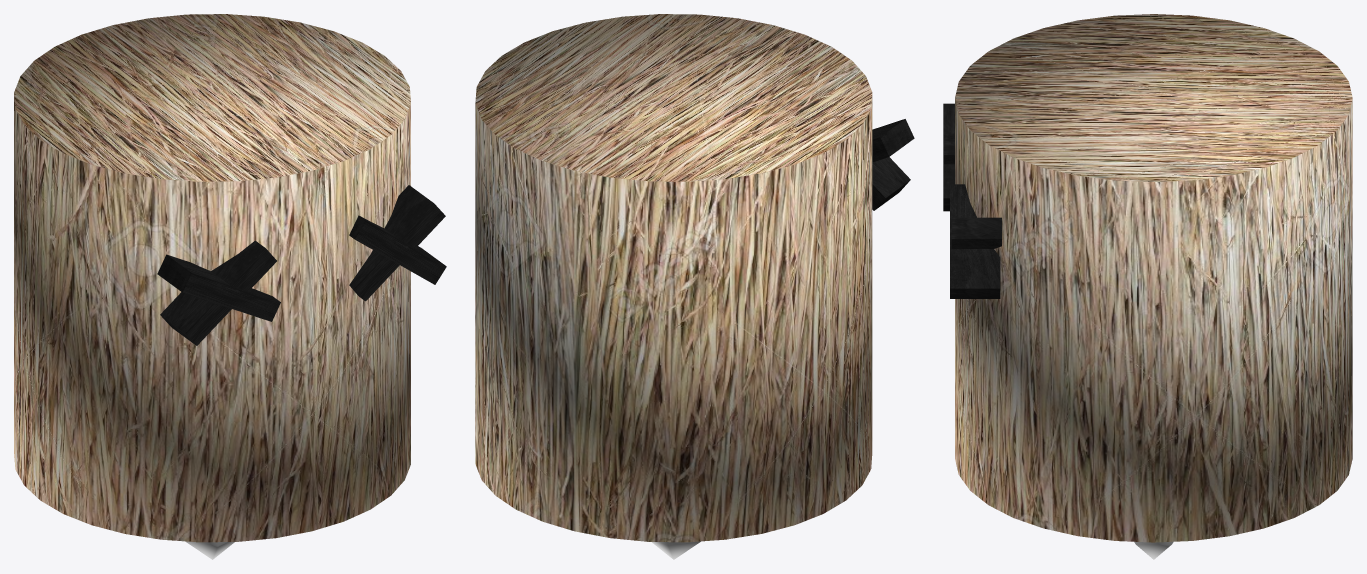
File: PracticeModel_Hit.fbx
3 views of the same model, side by side, from view 1: azimuth 30°, elevation 25°; view 2: azimuth 150°, elevation 25°; view 3: azimuth 270°, elevation 25° (orthographic).
Visible parts, largest first — view 1: 円柱, 立方体.002, 立方体.001, 立方体, 立方体.003; view 2: 円柱, 立方体.002, 立方体; view 3: 円柱, 立方体.003, 立方体.001, 立方体.
Part boxes in pixels (<box>): 円柱: <box>14,14,410,542</box>; 立方体.002: <box>160,240,276,345</box>; 立方体.001: <box>349,185,445,301</box>; 立方体: <box>157,254,280,321</box>; 立方体.003: <box>349,215,446,284</box>; 円柱: <box>475,14,872,542</box>; 立方体.002: <box>872,157,910,210</box>; 立方体: <box>872,119,914,162</box>; 円柱: <box>955,14,1352,542</box>; 立方体.003: <box>950,184,1000,298</box>; 立方体.001: <box>951,217,1001,248</box>; 立方体: <box>943,103,954,211</box>.
Bounding box in the file's own units: 2 × 2.56 × 2.06.
Materials: 2 (2 with a texture image).
